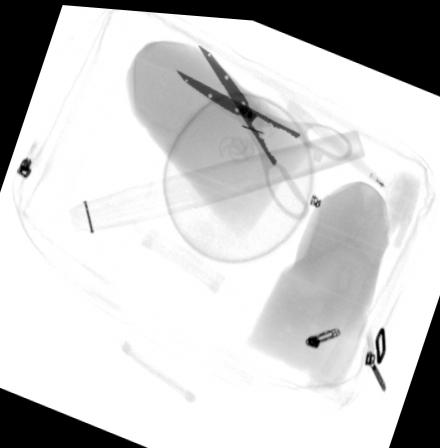Scissors: (175, 39, 352, 215)
